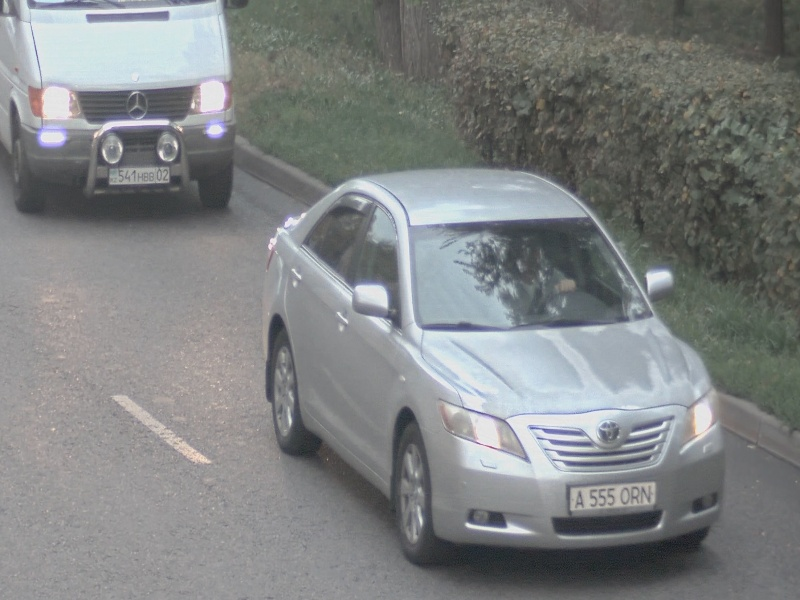plate: (568, 479, 658, 514), (107, 165, 170, 188)
